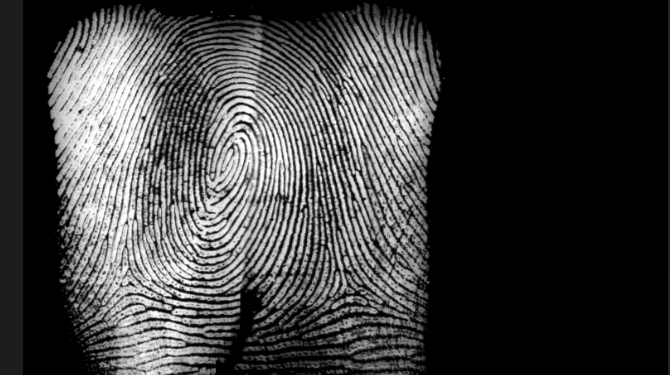deltas: (98, 250, 159, 309), (318, 258, 376, 319)
nucleo: (184, 125, 265, 204)
